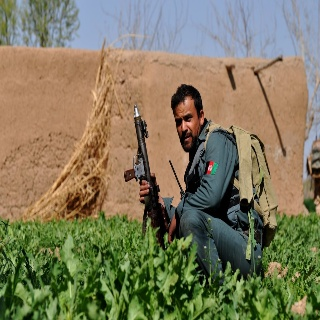rifle: (124, 104, 171, 247)
